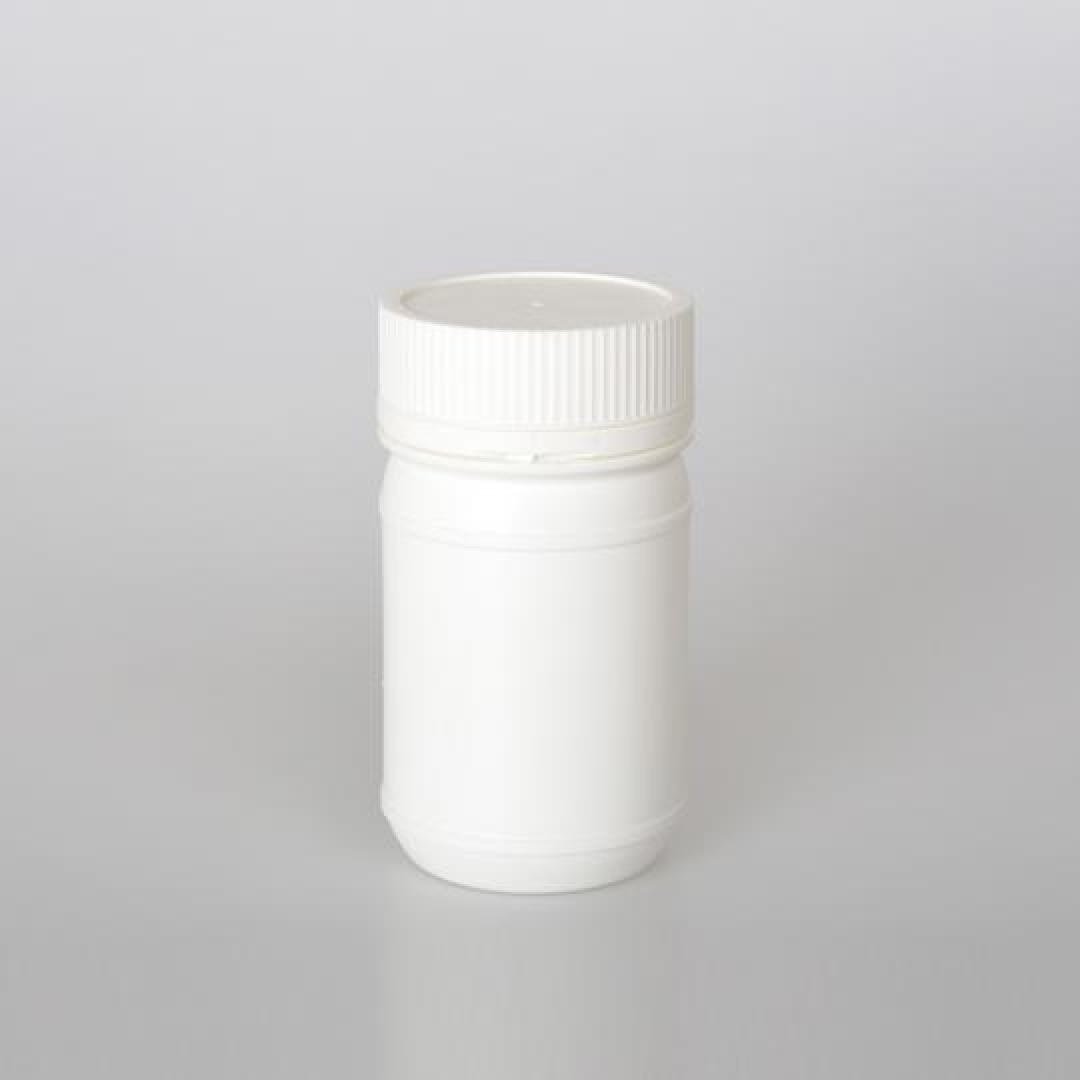medicinejar: (360, 266, 709, 891)
